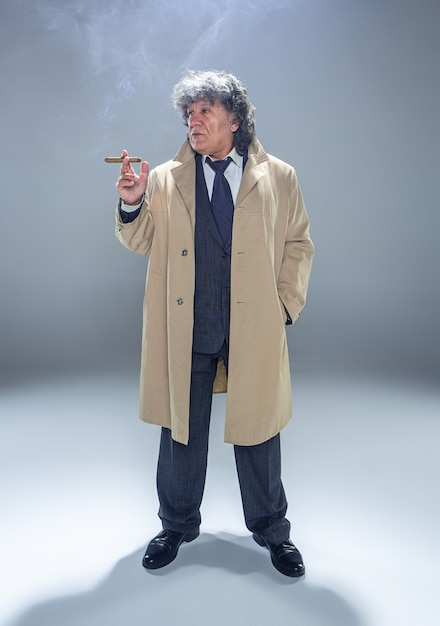cigarette: (104, 155, 143, 164)
